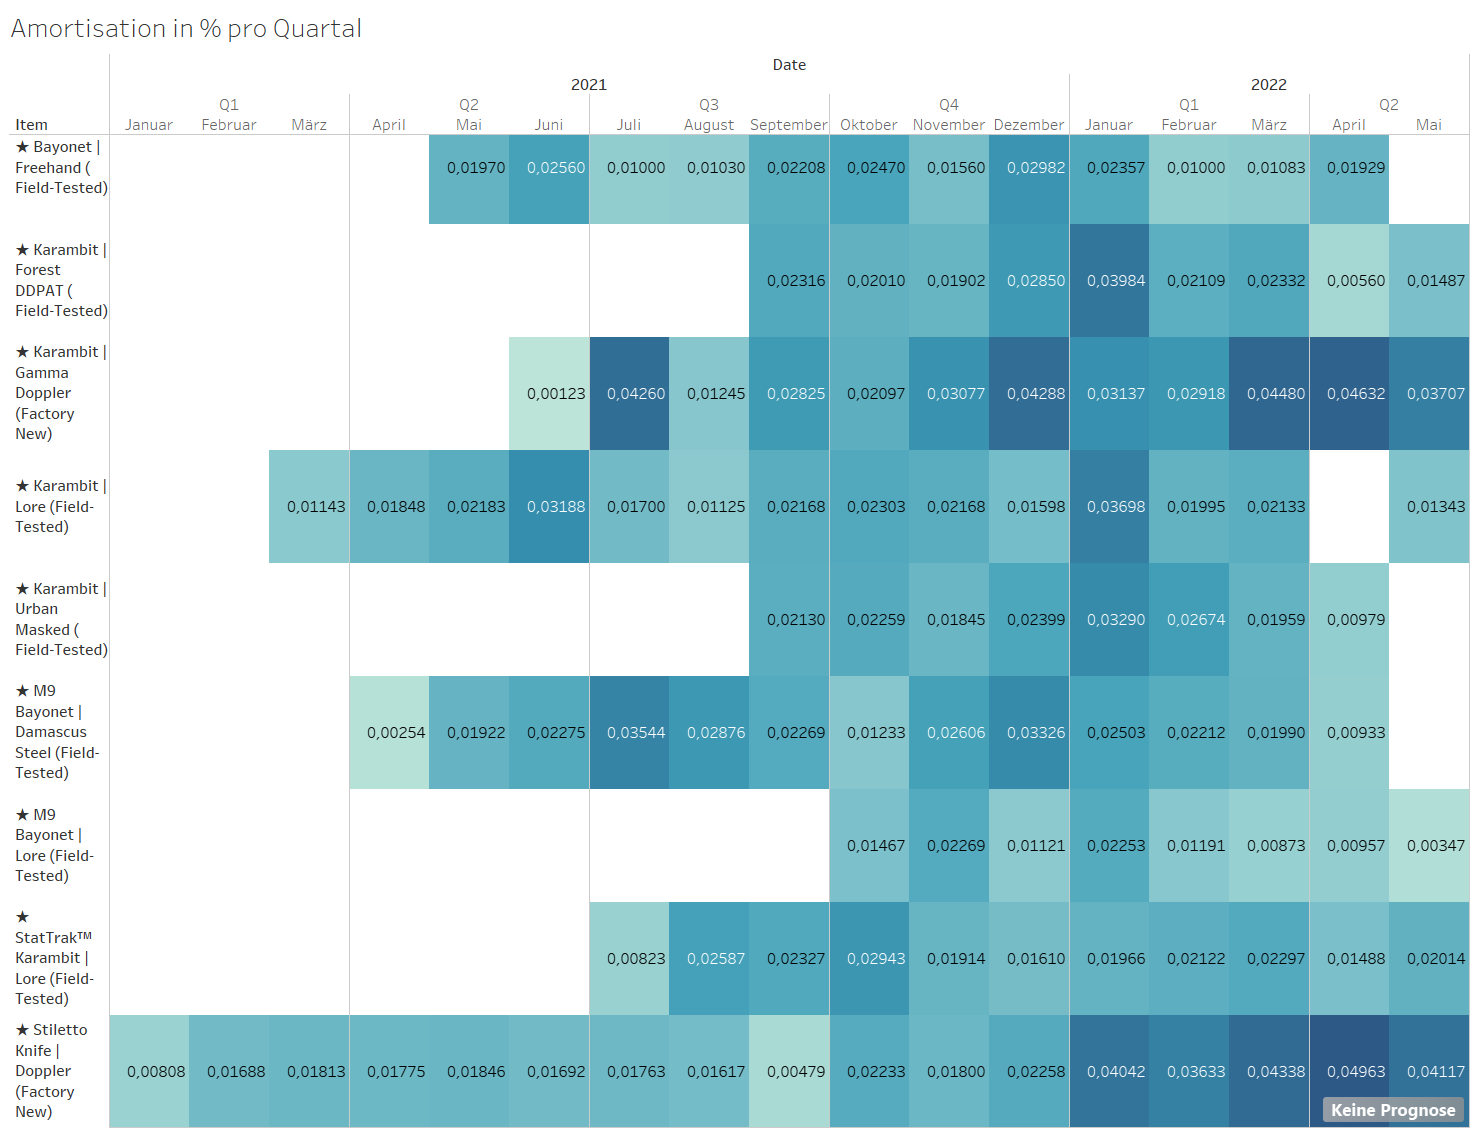

This screenshot's page, from the dashboard's own definition file:
{"tool":"tableau","page":{"name":"Dashboard 1","canvas":[1000,800],"ordinal":0},"visuals":[{"type":"worksheet","title":"Blatt 1","mark":"Automatic","rows":["Item"],"box":[8,8,984,784]}]}

Visuals, with their boxes on the page's 1000x800 design canvas (x1, y1, x2, y2). These are canvas units, not pixel positions in the 1474x1131 screenshot, which may show the page scaled, cropped or inside an application window:
"Blatt 1" worksheet: box(8, 8, 992, 792)
